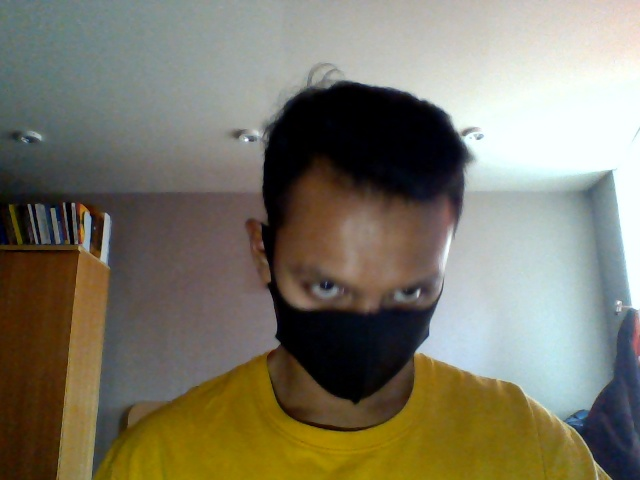mask: (265, 297, 434, 400)
